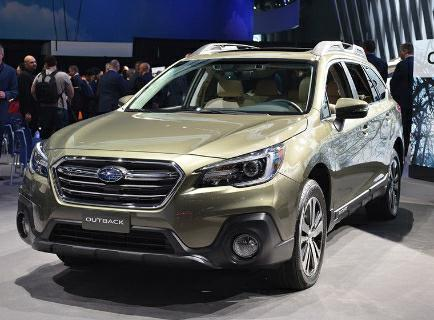斯巴鲁-傲虎: (9, 30, 413, 300)
